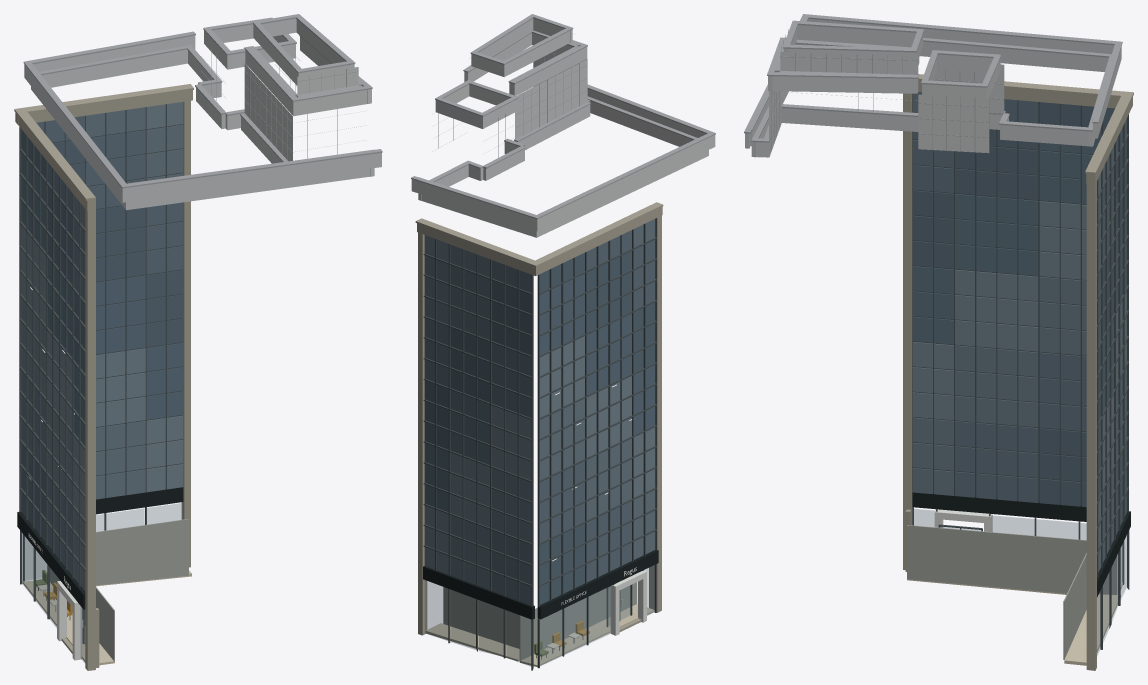
Rendered from d12-old-kca040-composite.glb.
3 renders of one model, left to right at view 1: azimuth 30°, elevation 25°; view 2: azimuth 150°, elevation 25°; view 3: azimuth 270°, elevation 25°, orthographic. The views are drawn at different scales.
Visible parts, largest first — view 1: INFERRED_OCCLUDED_CLOSURES__StoneWarmGrey, INFERRED_facade.001, OBSERVED_EXTERIOR__LowerGlazing; view 2: INFERRED_OCCLUDED_CLOSURES__StoneWarmGrey, INFERRED_facade.001, OBSERVED_EXTERIOR__LowerGlazing; view 3: INFERRED_OCCLUDED_CLOSURES__StoneWarmGrey, INFERRED_facade.001, OBSERVED_EXTERIOR__LowerGlazing.
Part boxes in pixels (bbox=[...]): INFERRED_OCCLUDED_CLOSURES__StoneWarmGrey: bbox=[14, 84, 193, 670]; INFERRED_facade.001: bbox=[23, 14, 382, 210]; OBSERVED_EXTERIOR__LowerGlazing: bbox=[22, 503, 182, 662]; INFERRED_OCCLUDED_CLOSURES__StoneWarmGrey: bbox=[415, 202, 663, 670]; INFERRED_facade.001: bbox=[411, 14, 715, 237]; OBSERVED_EXTERIOR__LowerGlazing: bbox=[425, 565, 654, 666]; INFERRED_OCCLUDED_CLOSURES__StoneWarmGrey: bbox=[903, 74, 1133, 670]; INFERRED_facade.001: bbox=[744, 14, 1122, 157]; OBSERVED_EXTERIOR__LowerGlazing: bbox=[913, 509, 1126, 655].
Size of the model in its own units: 15.58 by 37.43 by 20.92.
Materials: 3 (2 with a texture image).
